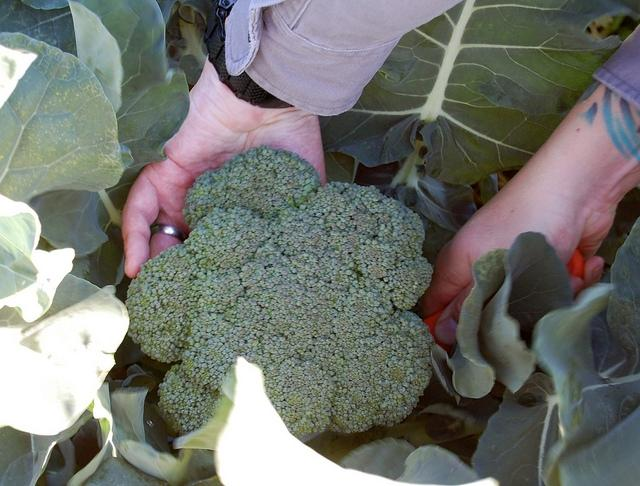broccoli: (124, 146, 436, 440)
